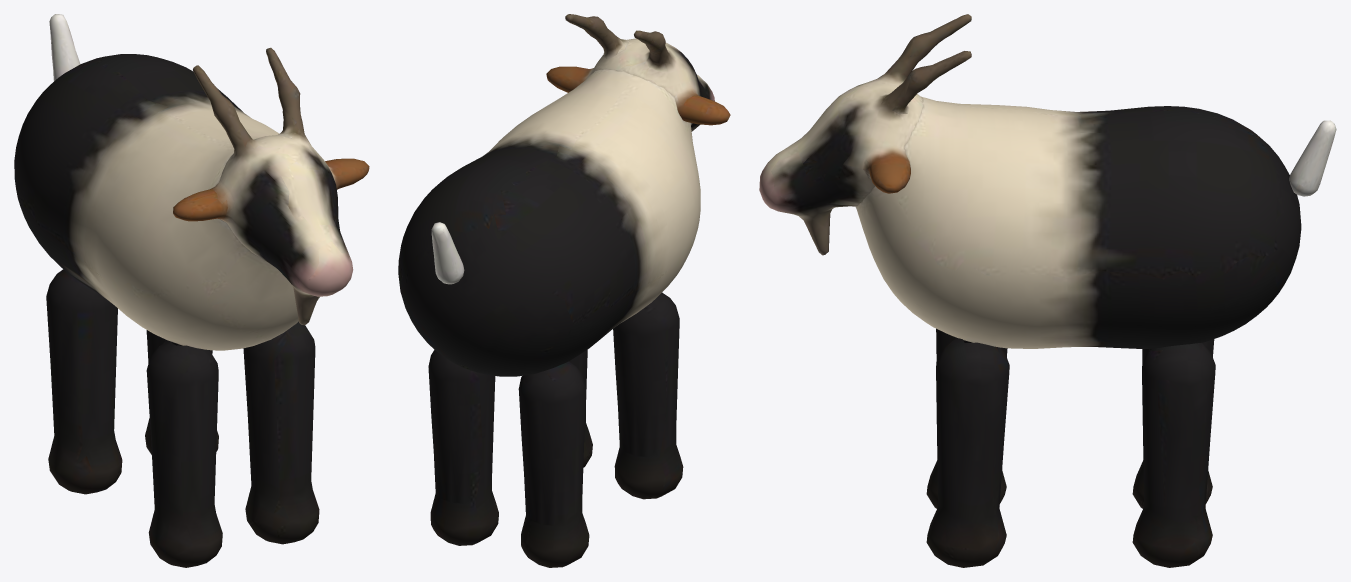
The model's file is animal_alpine_goat.glb.
The picture shows the model from 3 angles, left to right: view 1: azimuth 30°, elevation 25°; view 2: azimuth 150°, elevation 25°; view 3: azimuth 270°, elevation 25°; orthographic projection. The views are drawn at different scales.
Parts seen in each view (by area): view 1: animal_alpine_goat, head, leg0, leg1, leg2, tail, leg3; view 2: animal_alpine_goat, leg2, leg0, leg3, head, tail, leg1; view 3: animal_alpine_goat, head, leg1, leg3, tail, leg0.
Part boxes in pixels (bbox=[...]): animal_alpine_goat: bbox=[14, 54, 319, 350]; head: bbox=[173, 47, 369, 325]; leg0: bbox=[146, 340, 222, 567]; leg1: bbox=[243, 321, 319, 544]; leg2: bbox=[46, 269, 122, 494]; tail: bbox=[49, 14, 80, 81]; leg3: bbox=[145, 330, 218, 454]; animal_alpine_goat: bbox=[398, 69, 700, 376]; leg2: bbox=[518, 361, 589, 567]; leg0: bbox=[613, 292, 683, 499]; leg3: bbox=[428, 350, 498, 545]; head: bbox=[546, 14, 730, 131]; tail: bbox=[431, 222, 464, 284]; leg1: bbox=[569, 350, 592, 467]; animal_alpine_goat: bbox=[855, 96, 1301, 348]; head: bbox=[759, 14, 971, 255]; leg1: bbox=[926, 338, 1009, 567]; leg3: bbox=[1132, 342, 1215, 567]; tail: bbox=[1289, 120, 1336, 196]; leg0: bbox=[926, 328, 1007, 508].
Bounding box in the file's own units: 0.2149 × 0.489 × 0.5043.
1 material, 1 textured.
